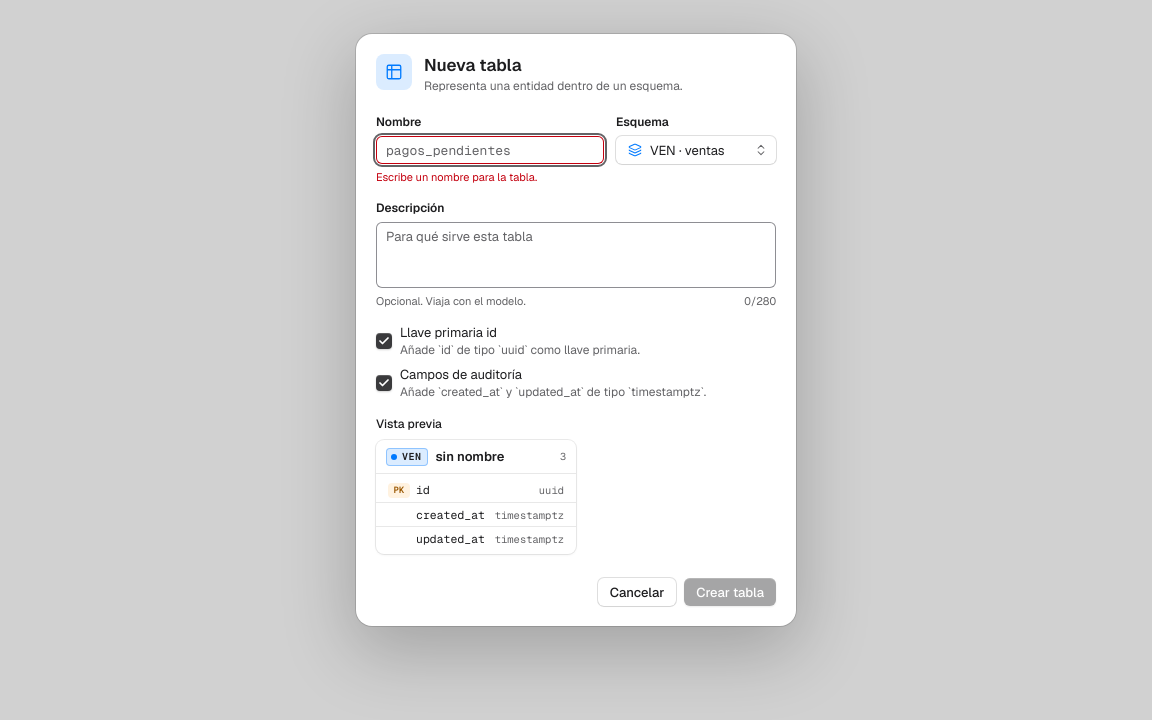
Test: TableDialog › no crea nada sin nombre, y lo dice (FR-004)
Type "Pagos" into the field labelled "Nombre" at (490, 150), box [384,136,596,164]
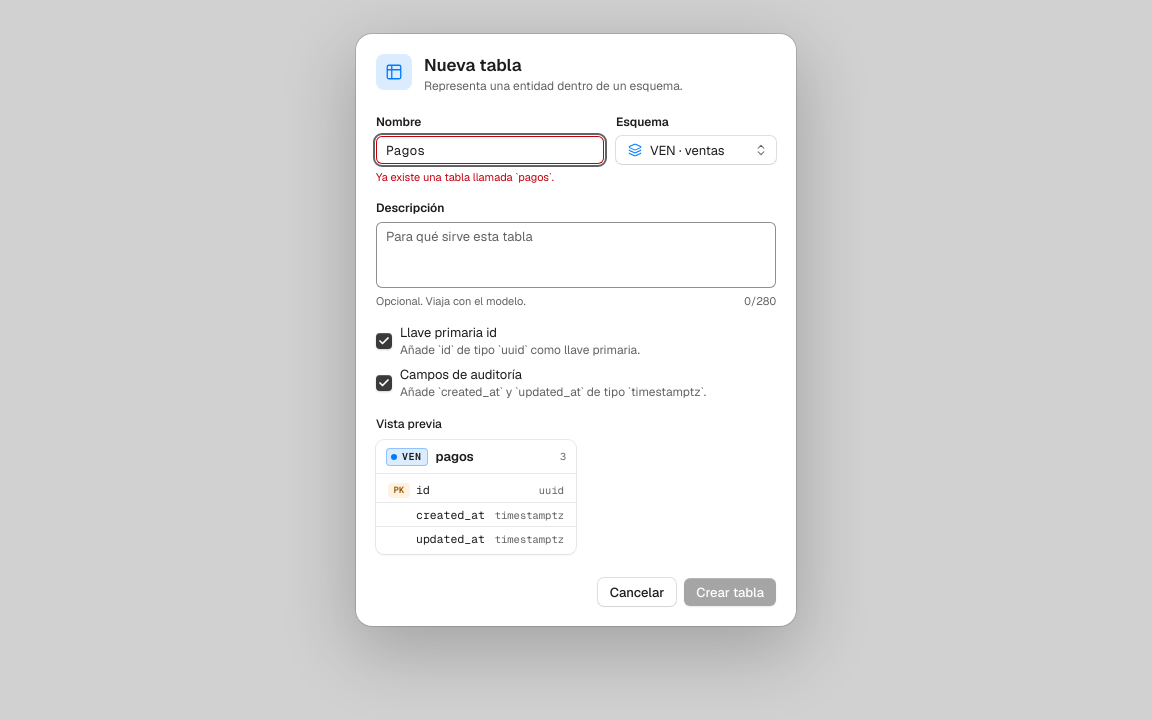
Clear the field labelled "Nombre" at (490, 150), box [384,136,596,164]
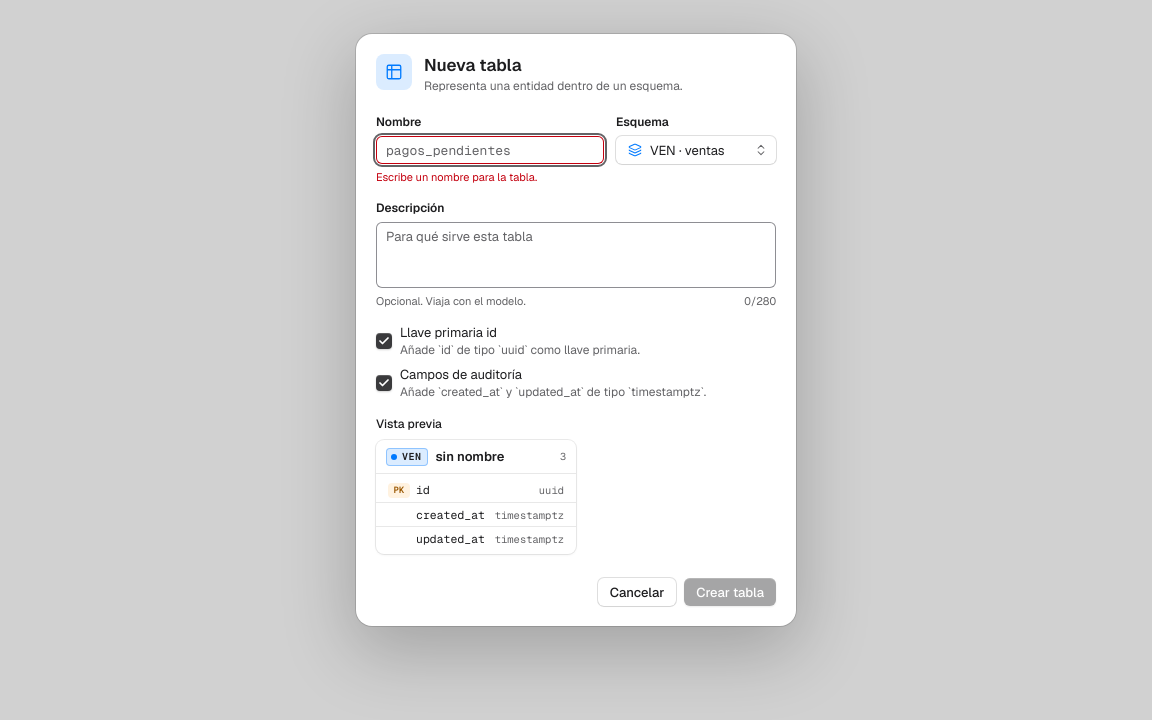
Check: the button "Crear tabla" is disabled, box [684,578,776,606]
Check: the text "Escribe un nombre para la tabla." is shown, box [376,170,537,184]
